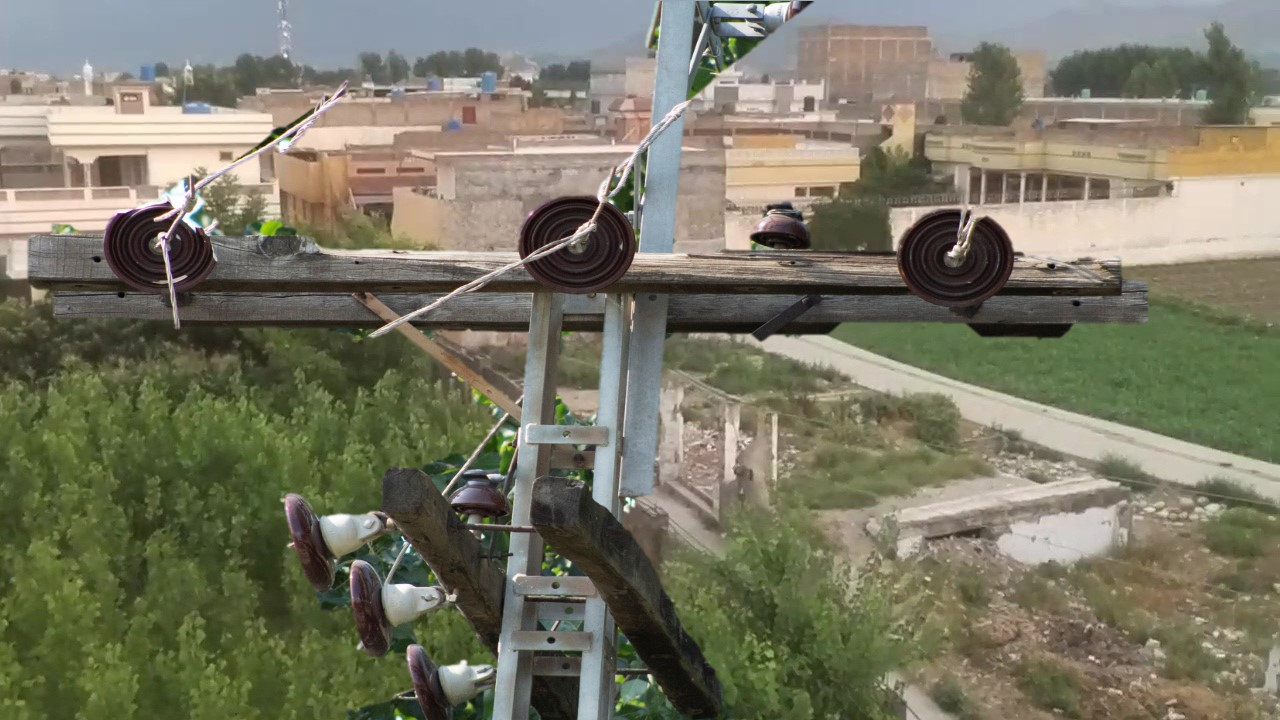defect_disc: (102, 194, 226, 299)
insulator_disc: (895, 202, 1021, 318), (517, 190, 642, 294), (333, 568, 424, 649), (279, 485, 350, 578), (382, 641, 485, 705)
insulator_pin: (745, 197, 820, 249), (446, 468, 513, 516)
